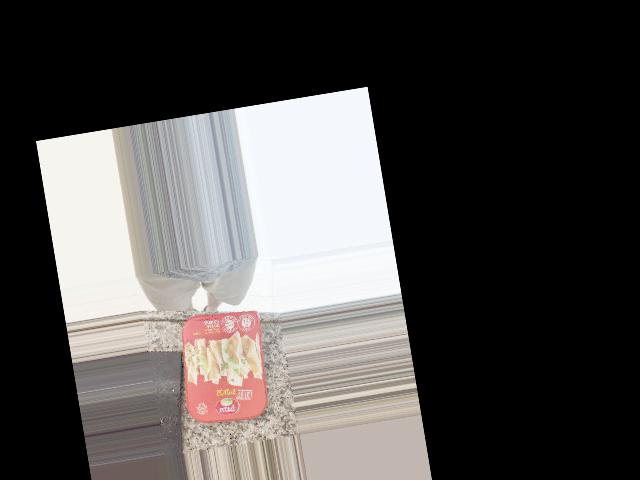cheese: (157, 285, 261, 408)
